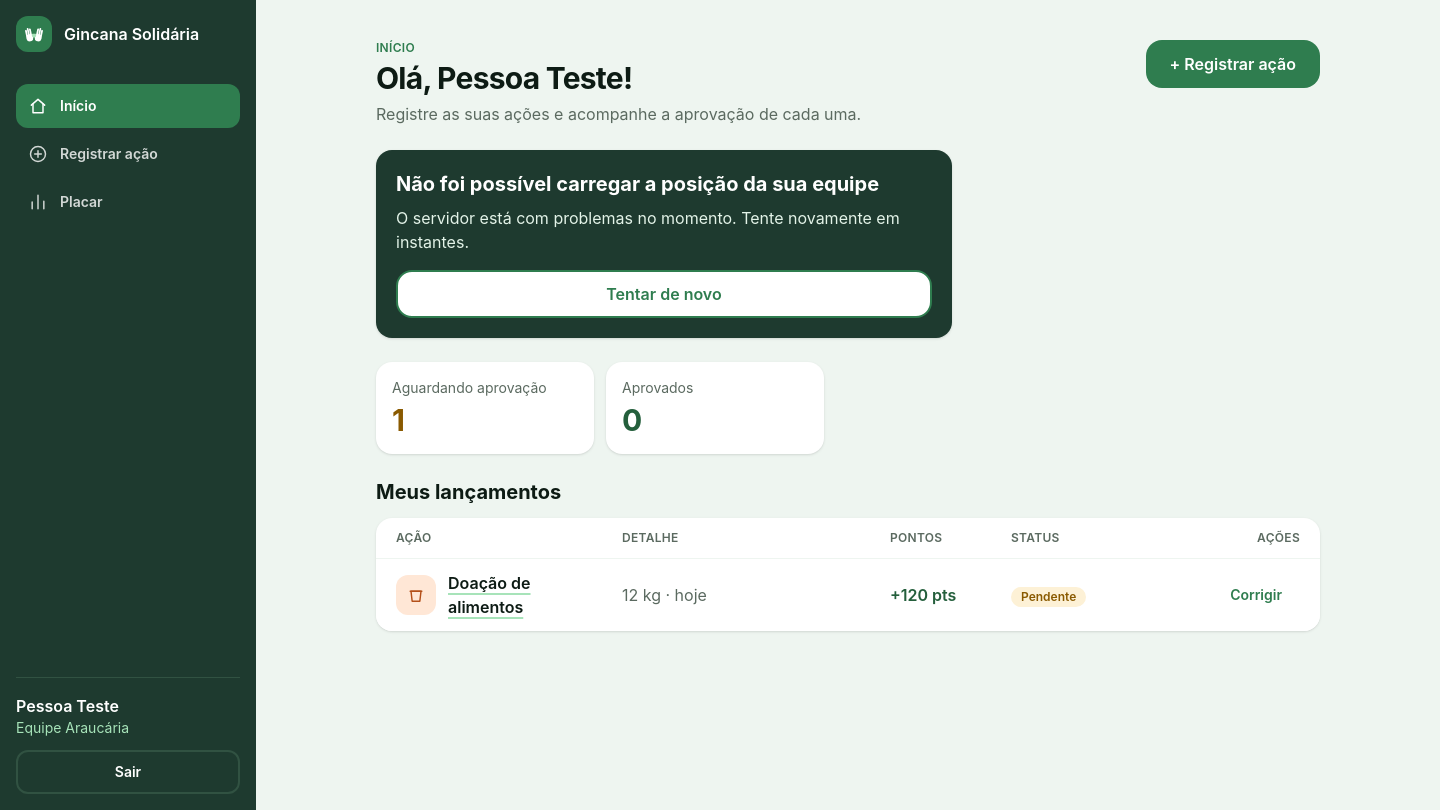
Test: Cartão de posição no início (US11) › quando não há posição para mostrar › se o placar falha, só o cartão avisa: os lançamentos continuam na tela
The width and height of the screenshot is (1440, 810).
Check: the message shows "servidor está com problemas", box top-left (396, 208), bottom-right (900, 252)
Check: the table named "Meus lançamentos" is shown, box top-left (376, 518), bottom-right (1320, 630)
Click the button "Tentar de novo" at [664, 294], box top-left (396, 270), bottom-right (932, 318)
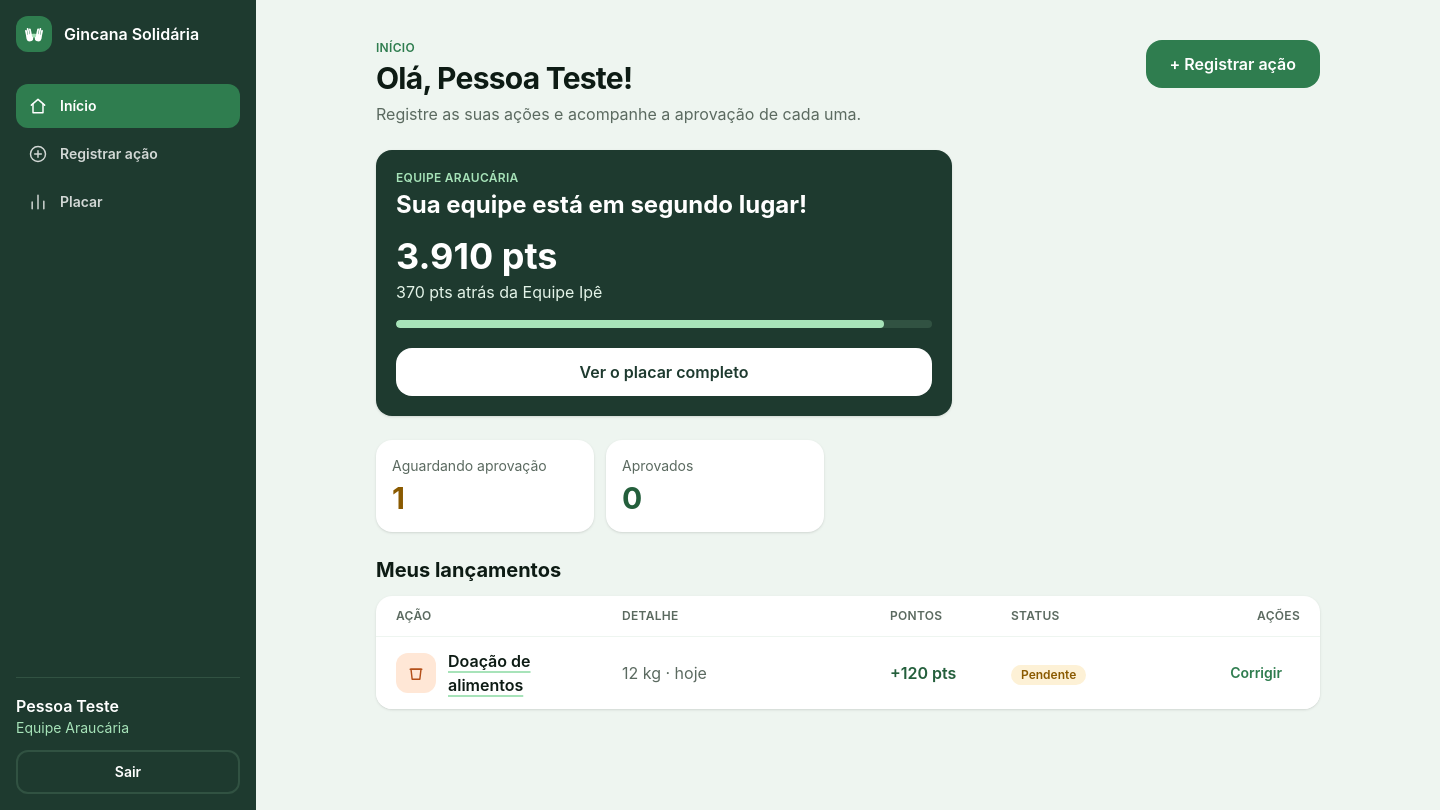
Check: the heading "Sua equipe está em segundo lugar!" is shown, box top-left (396, 190), bottom-right (807, 218)
